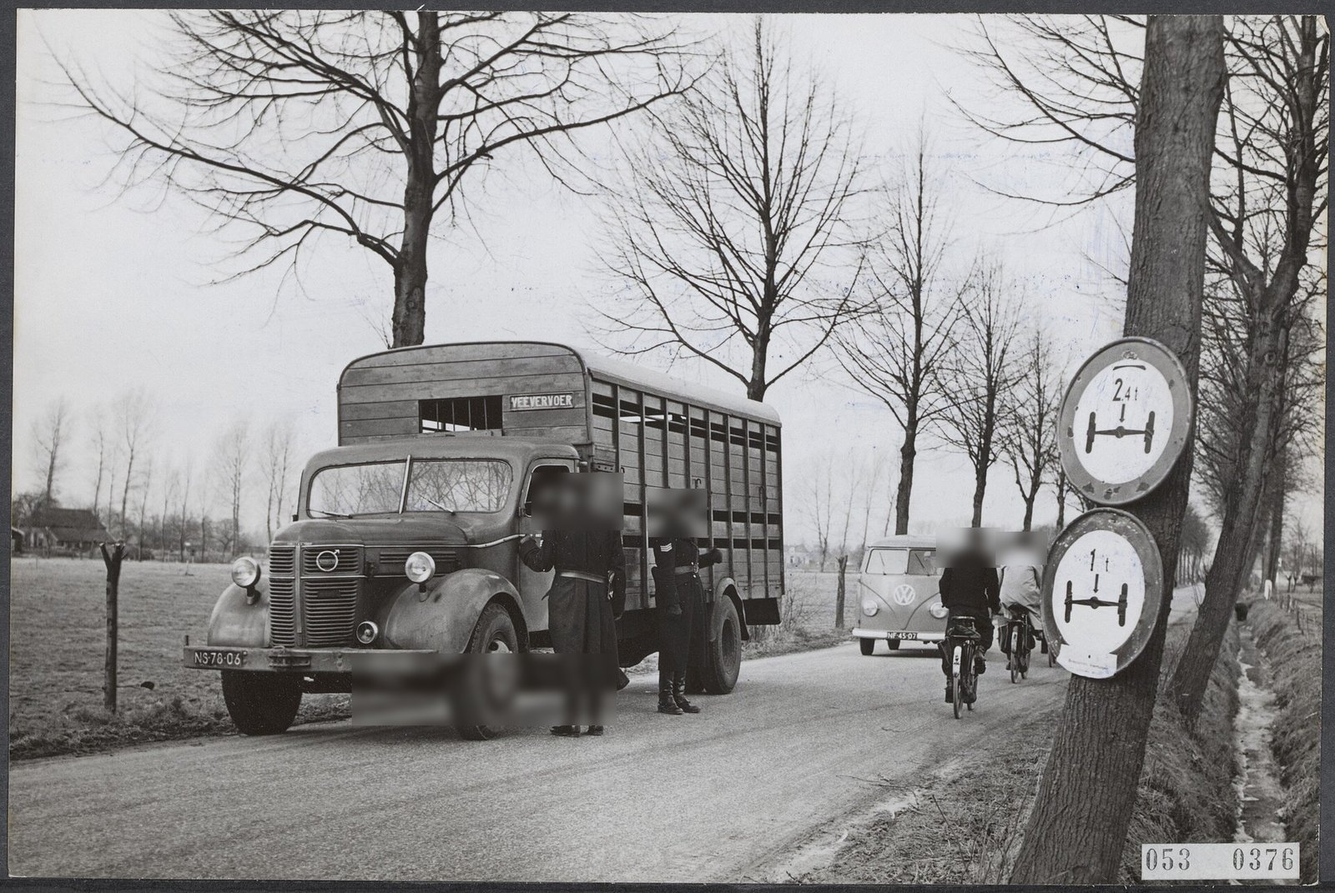bus: (183, 339, 787, 742)
person: (532, 473, 624, 738), (648, 489, 707, 710), (936, 528, 1001, 714), (996, 532, 1047, 685)
